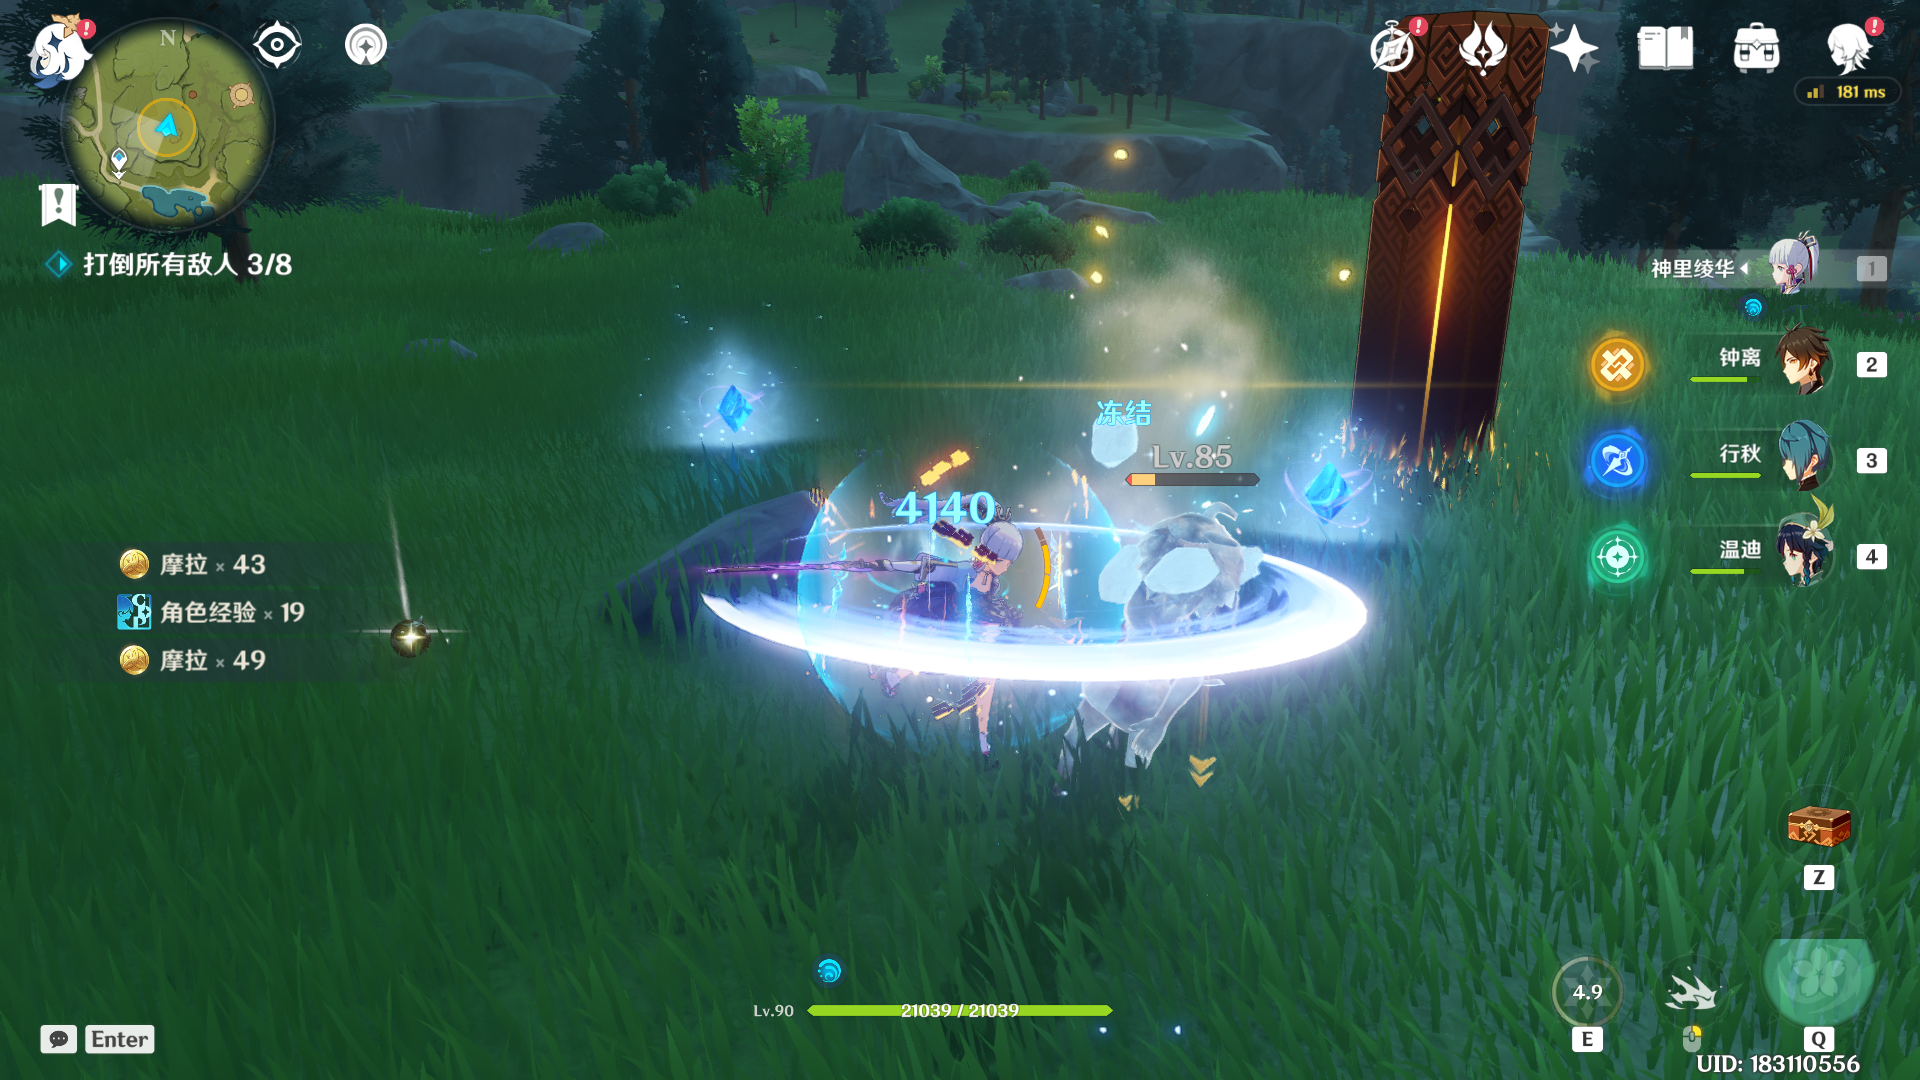character: (758, 459, 1083, 835)
